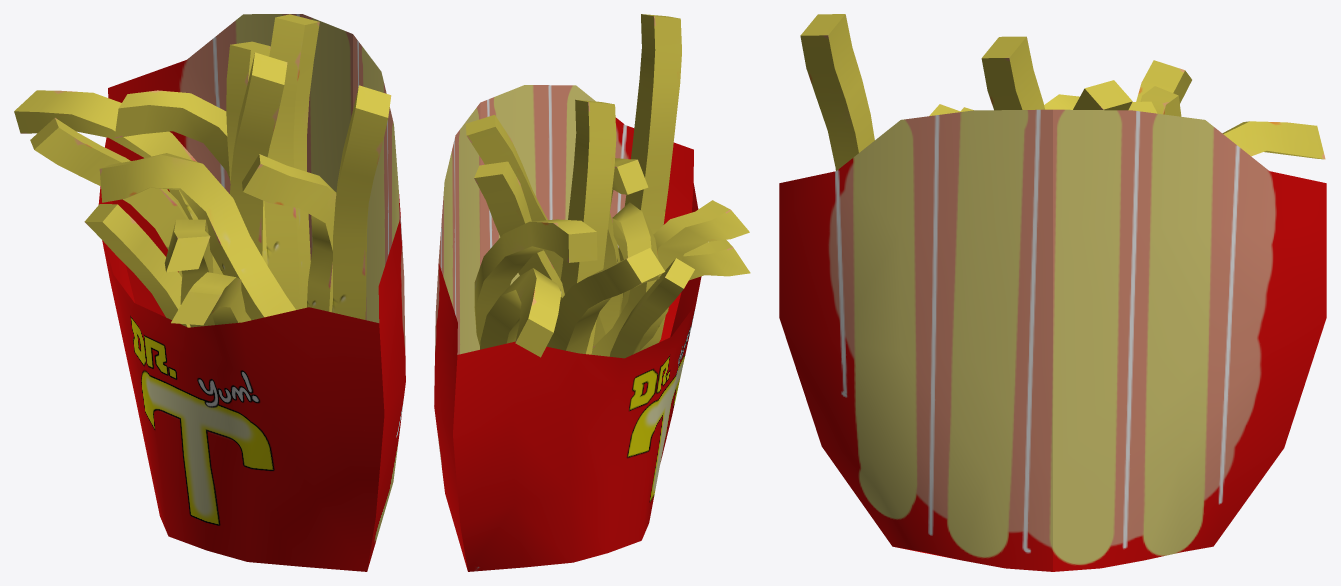
The model's file is SM_Fries.fbx.
3 views of the same model, side by side, from view 1: azimuth 30°, elevation 25°; view 2: azimuth 150°, elevation 25°; view 3: azimuth 270°, elevation 25° (orthographic). The views are drawn at different scales.
Parts seen in each view (by area): view 1: SM_Fries; view 2: SM_Fries; view 3: SM_Fries.
Part boxes in pixels (<box>): SM_Fries: <box>14,14,405,571</box>; SM_Fries: <box>434,14,750,571</box>; SM_Fries: <box>779,14,1326,571</box>.
Bounding box in the file's own units: 9.62 × 16.99 × 17.71.
Materials: 1 (1 with a texture image).
